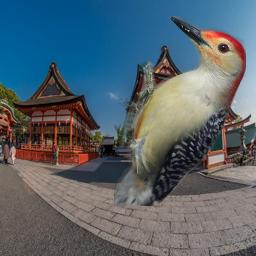Woodpecker: (114, 16, 246, 206)
